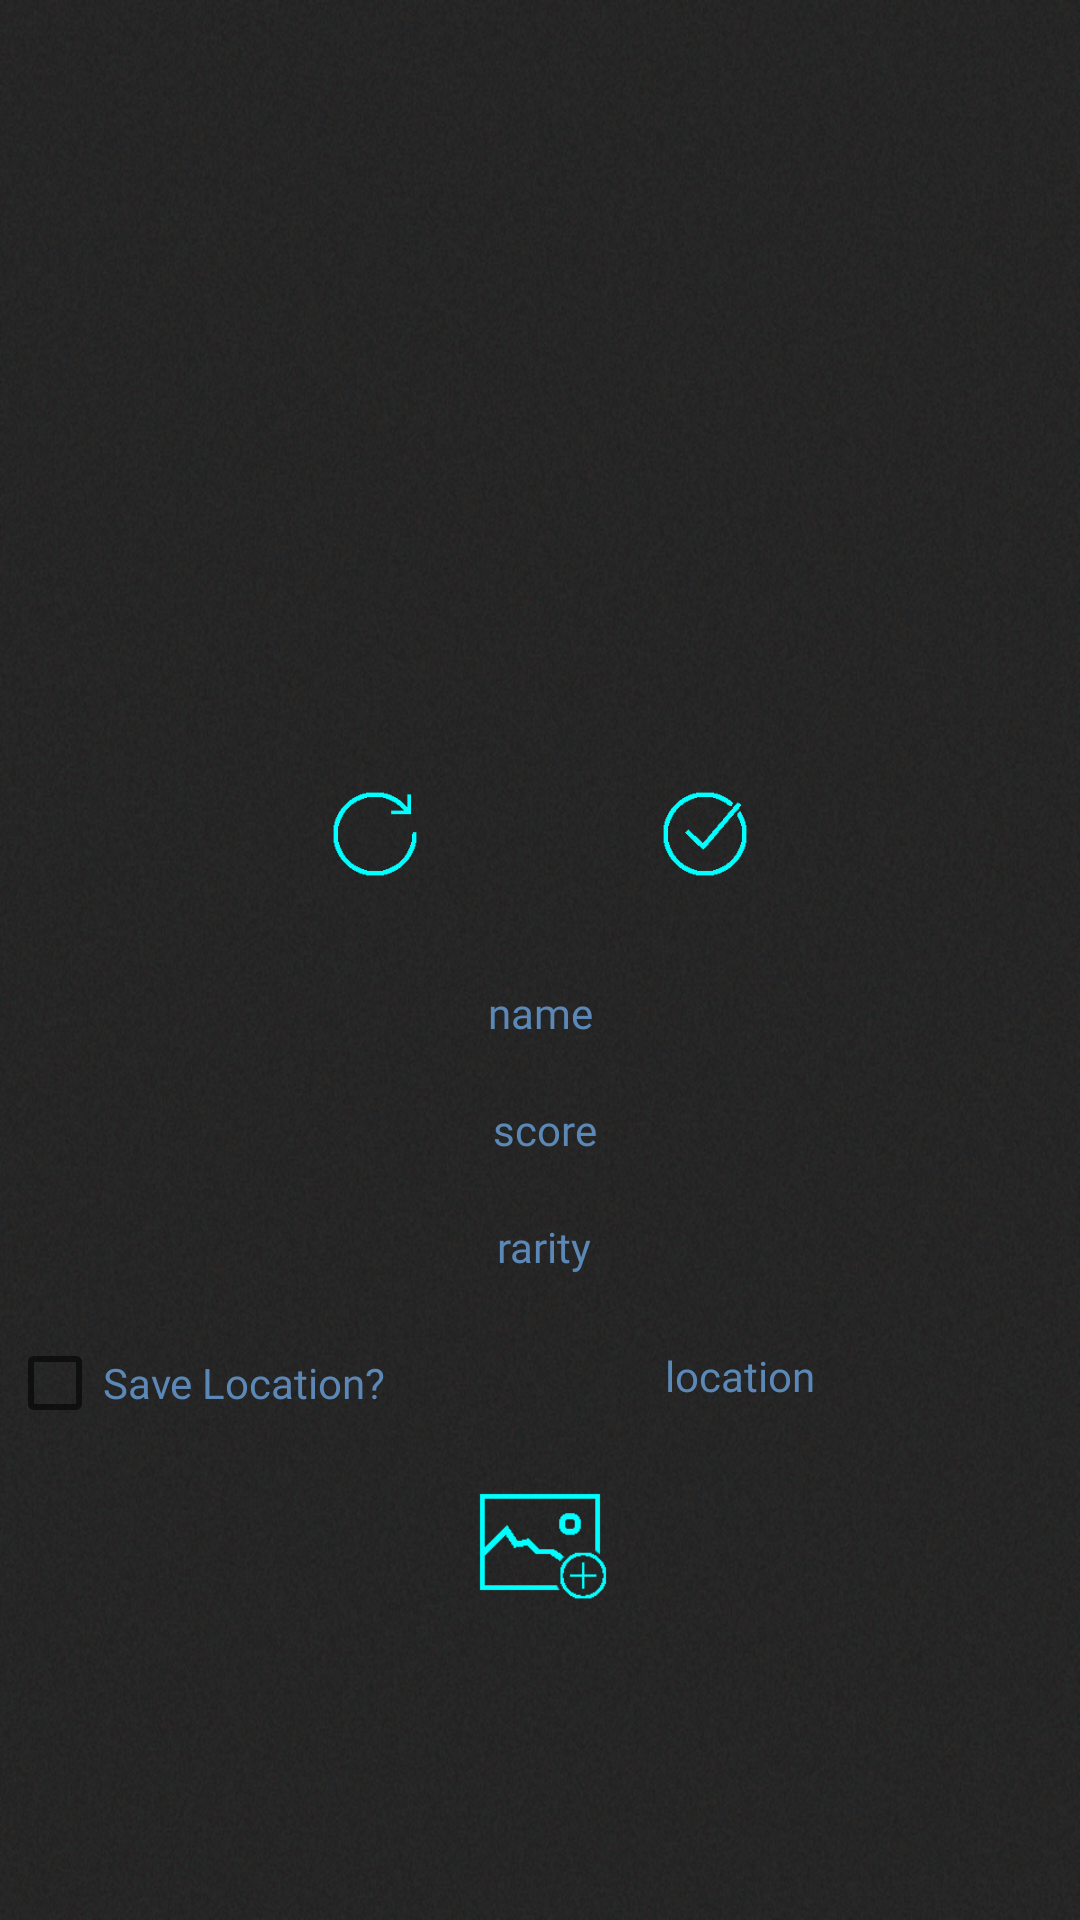

Locate icon controls on the screen. Image size 1080w x 1920h, boxes as (x1,y1,x2,y2).
add picture: (480,1494,606,1599)
confirm: (663,792,747,876)
retake: (333,792,417,876)
